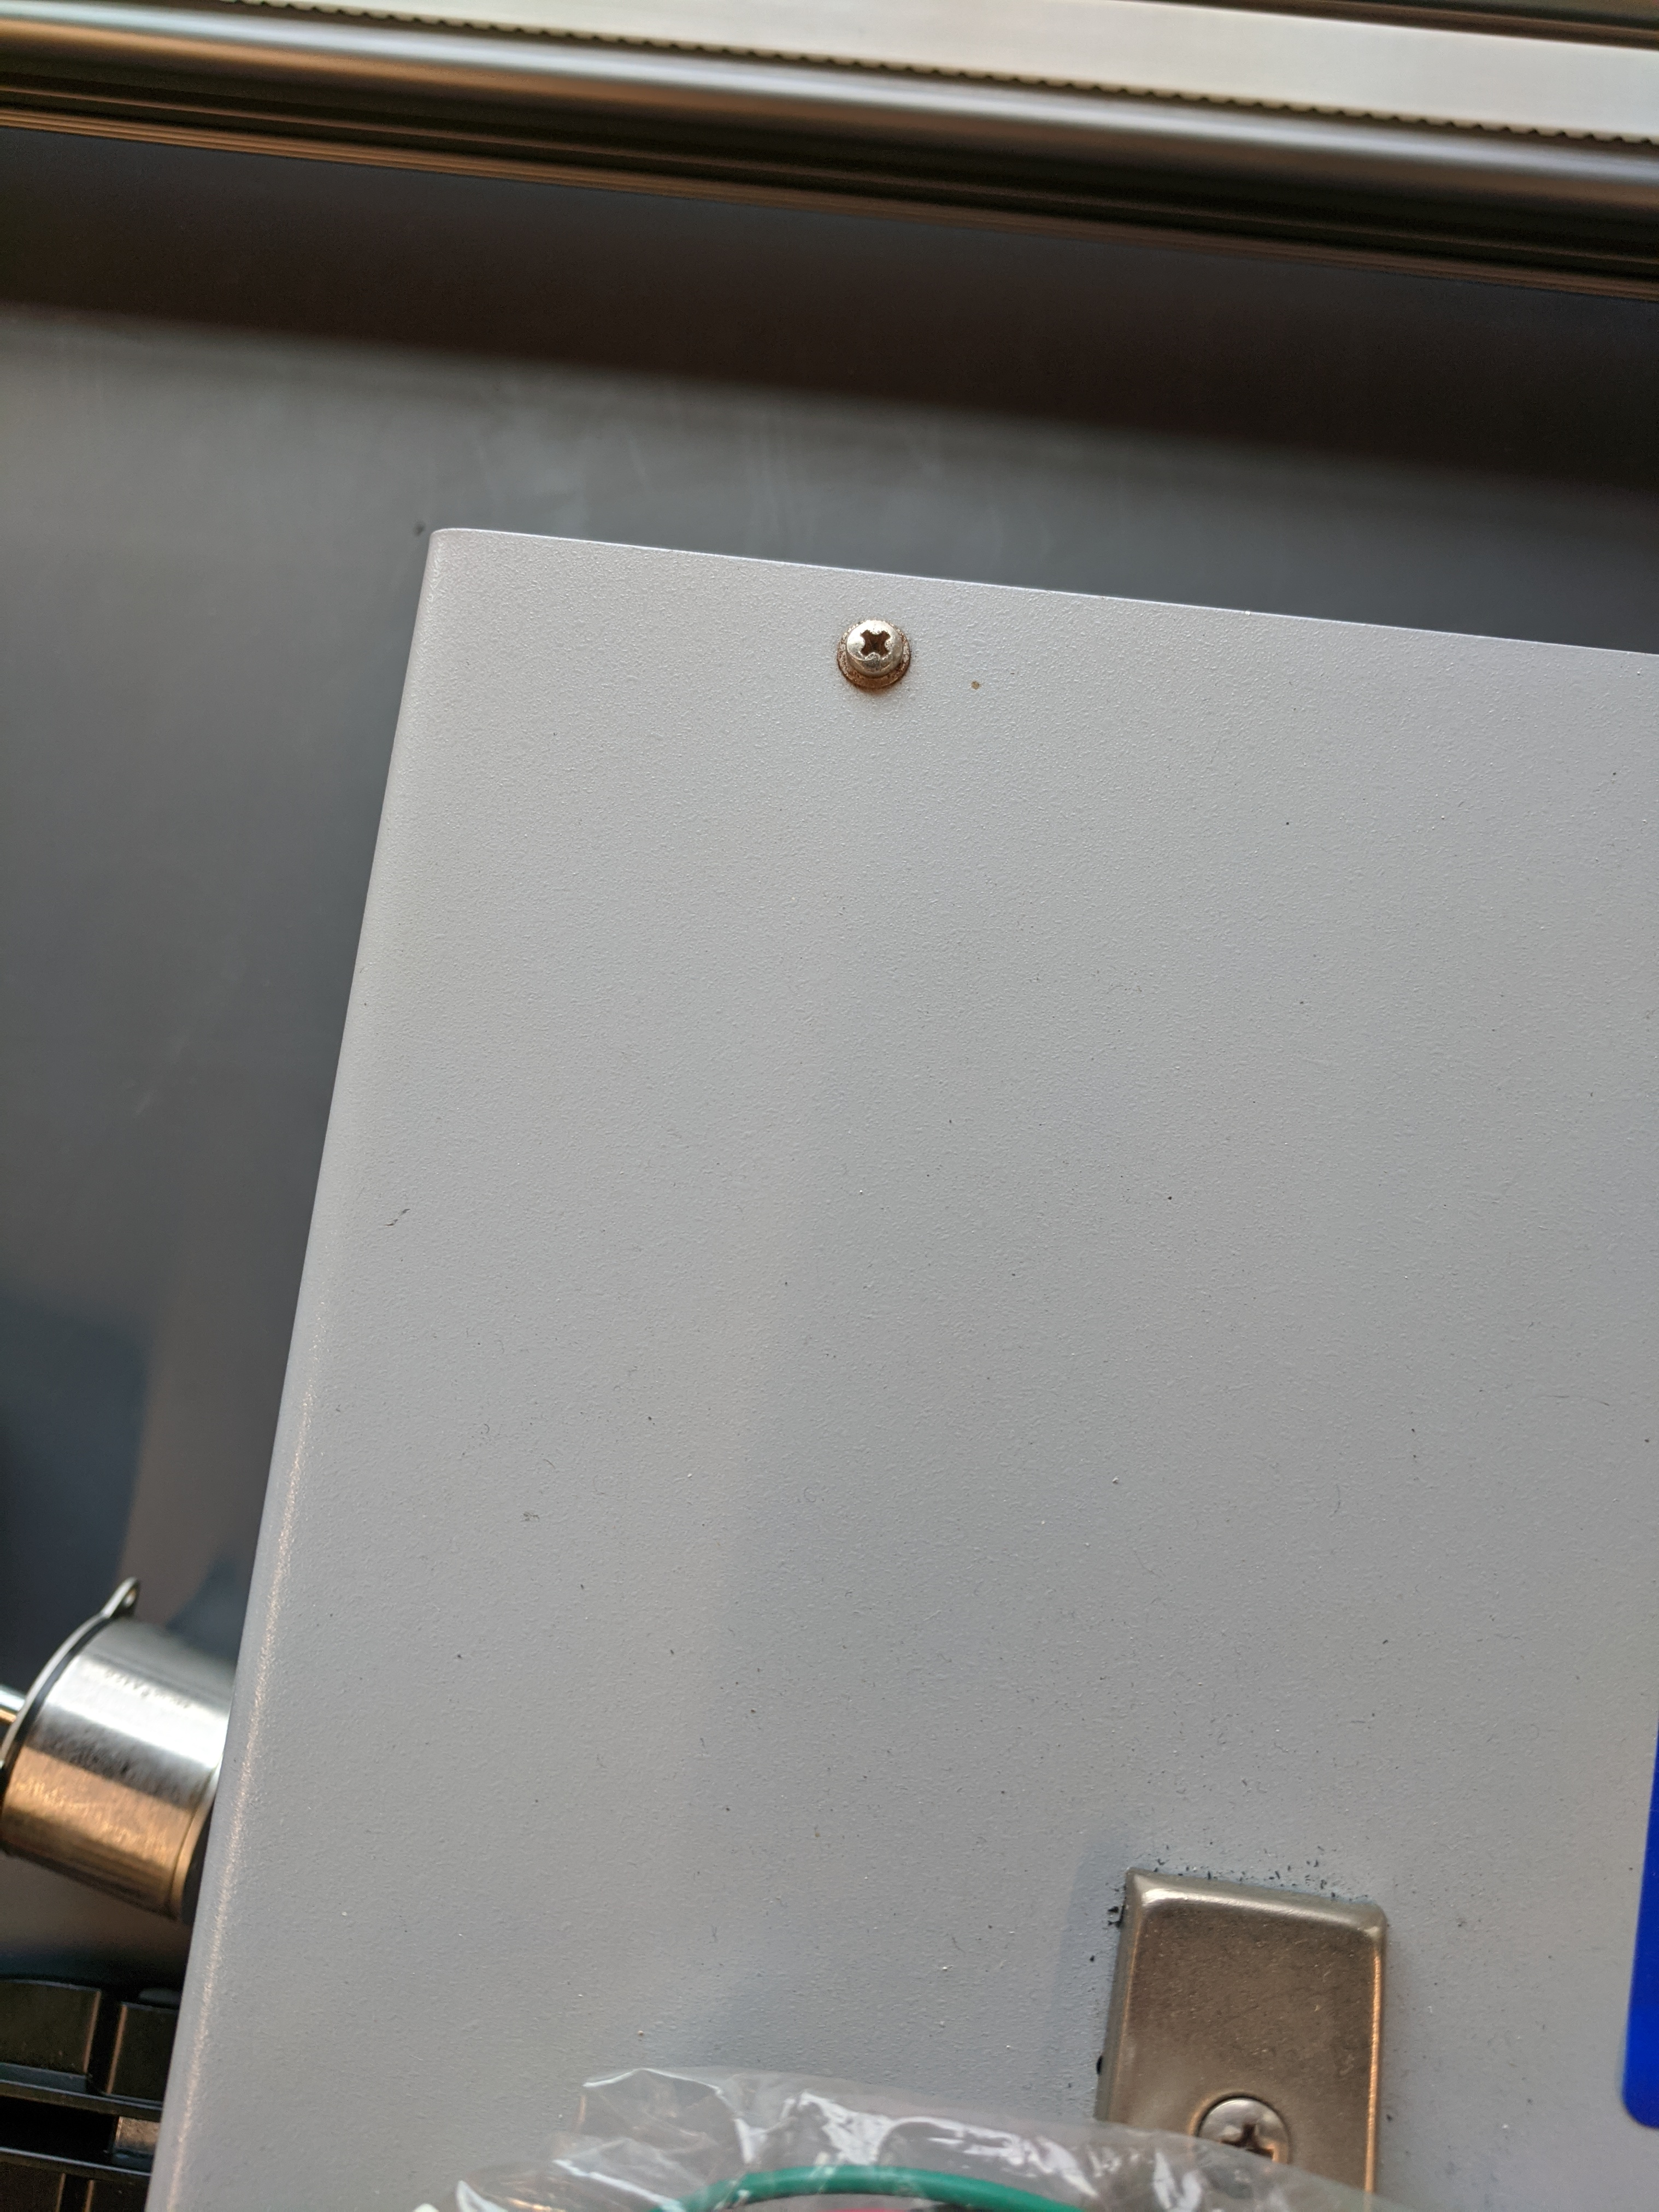cross_recessed_screw: (1185, 2078, 1295, 2174), (826, 599, 917, 685)
